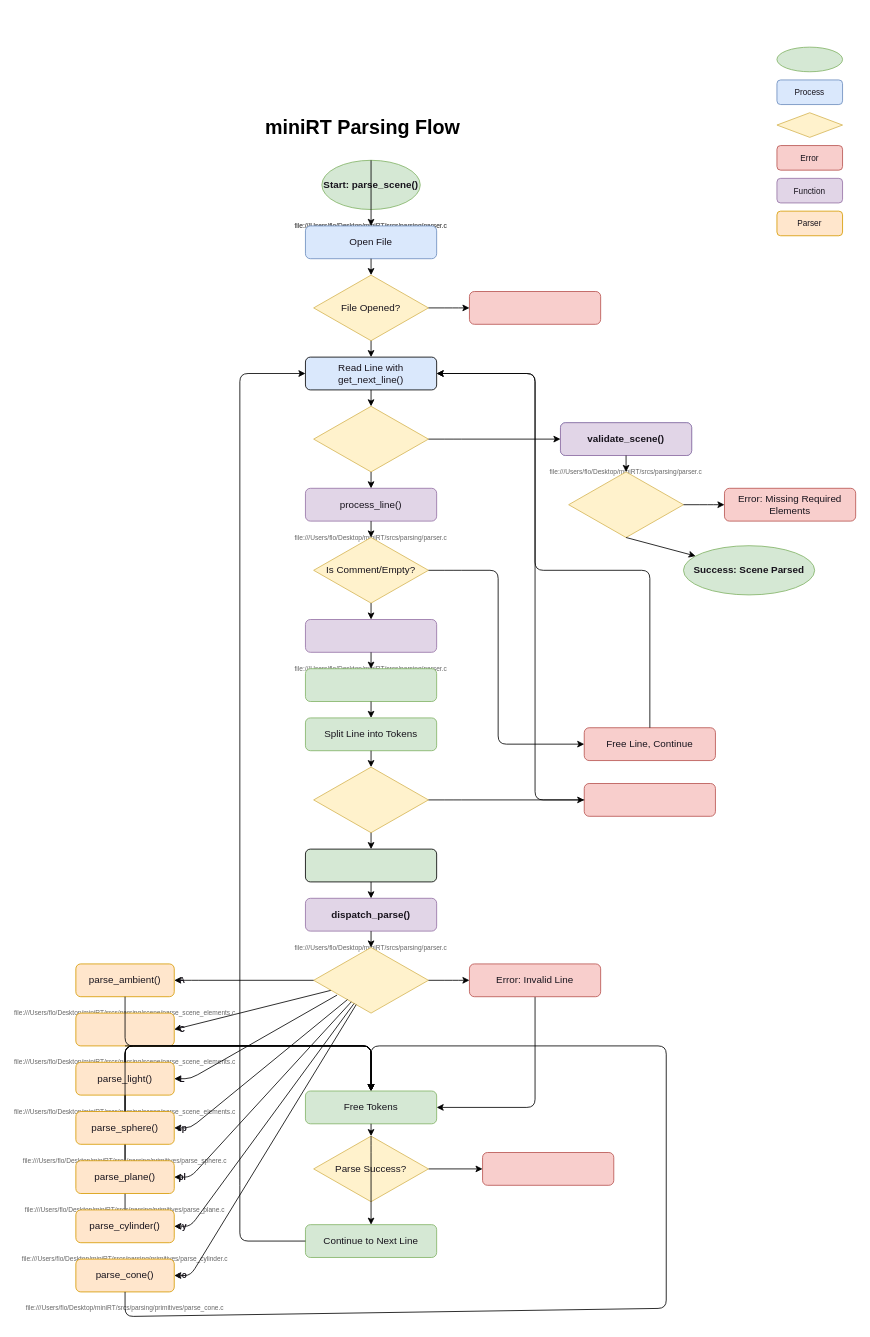
This 870x1337 diagram has some shape labels left out. Here are the shapes that lost their labels. From the top down, the centre of each, then its label:
At pixel 809 59: "Start/End".
At pixel 809 124: "Decision".
At pixel 535 307: "Error: Could not open file".
At pixel 370 438: "Line Exists?".
At pixel 625 504: "Required Elements Present?".
At pixel 371 635: "parse_line()".
At pixel 371 685: "Replace Tabs with Spaces".
At pixel 370 799: "Tokens Valid?".
At pixel 649 799: "Free Tokens, Continue".
At pixel 371 865: "Count Tokens".
At pixel 370 980: "Token Type?".
At pixel 124 1029: "parse_camera()".
At pixel 548 1168: "Error: Parsing Failed".
